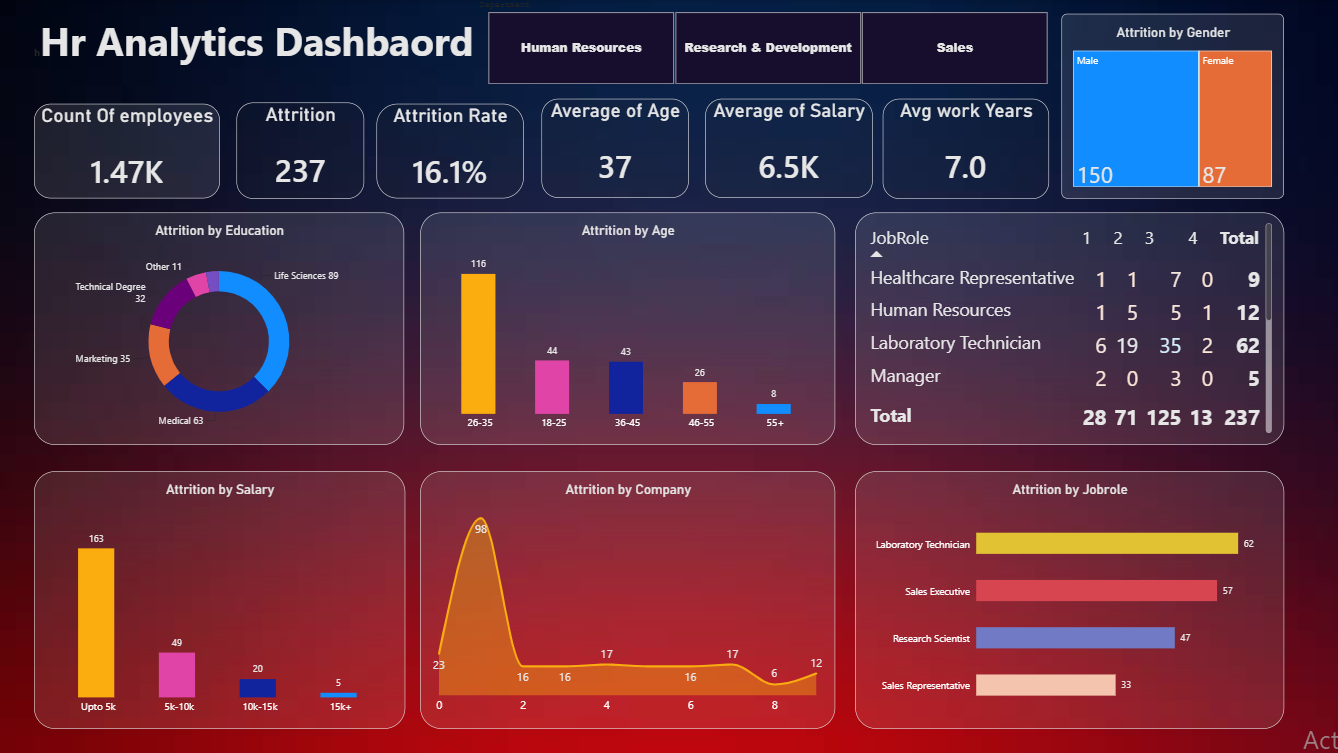

This screenshot's page, from the dashboard's own definition file:
{"tool":"powerbi","page":{"name":"Page 1","canvas":[1920,1080],"ordinal":0},"visuals":[{"type":"cardVisual","title":"Count Of employees","fields":{"Data":["CountNonNull(HR_Analytics.EmpID)"]},"box":[50.9,148.2,265.4,134.9],"z":0},{"type":"cardVisual","title":"Attrition","fields":{"Data":["Sum(HR_Analytics.AttritionAcount)"]},"box":[339.3,146.4,182.1,137.5],"z":1000},{"type":"cardVisual","title":"Attrition Rate","fields":{"Data":["HR_Analytics.AttritionRate"]},"box":[539.7,148.2,210.1,134.9],"z":2000},{"type":"cardVisual","title":"Average of Age","fields":{"Data":["Avg(HR_Analytics.Age)"]},"box":[774.2,141.6,210.1,141.6],"z":3000},{"type":"cardVisual","title":"Average of Salary","fields":{"Data":["Avg(HR_Analytics.MonthlyIncome)"]},"box":[1008.7,141.6,238.9,141.6],"z":4000},{"type":"cardVisual","title":"Avg work Years","fields":{"Data":["Avg(HR_Analytics.YearsAtCompany)"]},"box":[1262.5,141.1,237.5,142.9],"z":5000},{"type":"donutChart","title":"Attrition by Education","fields":{"Category":["HR_Analytics.EducationField"],"Y":["Sum(HR_Analytics.AttritionAcount)"]},"box":[50,303.6,528.6,332.1],"z":6000},{"type":"clusteredColumnChart","title":"Attrition by Age","fields":{"Category":["HR_Analytics.AgeGroup"],"Y":["Sum(HR_Analytics.AttritionAcount)"]},"box":[601.8,303.6,592.9,332.1],"z":7000},{"type":"pivotTable","fields":{"Columns":["HR_Analytics.JobInvolvement"],"Rows":["HR_Analytics.JobRole"],"Values":["Sum(HR_Analytics.AttritionAcount)"]},"box":[1223.2,303.6,612.5,332.1],"z":8000},{"type":"clusteredColumnChart","title":"Attrition by Salary","fields":{"Category":["HR_Analytics.SalarySlab"],"Y":["Sum(HR_Analytics.AttritionAcount)"]},"box":[50,673.2,530.4,367.9],"z":9000},{"type":"areaChart","title":"Attrition by Company","fields":{"Category":["HR_Analytics.NumCompaniesWorked"],"Y":["Sum(HR_Analytics.AttritionAcount)"]},"box":[601.8,673.2,592.9,367.9],"z":10000},{"type":"clusteredBarChart","title":"Attrition by Jobrole","fields":{"Category":["HR_Analytics.JobRole"],"Y":["Sum(HR_Analytics.AttritionAcount)"]},"box":[1223.2,673.2,612.5,367.9],"z":11000},{"type":"treemap","title":"Attrition by Gender","fields":{"Group":["HR_Analytics.Gender"],"Values":["Sum(HR_Analytics.AttritionAcount)"]},"box":[1517.9,19.6,317.9,264.3],"z":12000},{"type":"slicer","fields":{"Values":["HR_Analytics.Department"]},"box":[679.1,0,838.3,121.7],"z":13000},{"type":"textbox","box":[50.9,19.9,665.8,81.8],"z":14000}]}

Visuals, with their boxes in screenshot pixels (x1, y1, x2, y2), scaled from the page's 1920x1080 canvas onto the 1338x753 screenshot:
"Count Of employees" cardVisual: bbox(35, 103, 220, 197)
"Attrition" cardVisual: bbox(236, 102, 363, 198)
"Attrition Rate" cardVisual: bbox(376, 103, 523, 197)
"Average of Age" cardVisual: bbox(540, 99, 686, 197)
"Average of Salary" cardVisual: bbox(703, 99, 869, 197)
"Avg work Years" cardVisual: bbox(880, 98, 1045, 198)
"Attrition by Education" donutChart: bbox(35, 212, 403, 443)
"Attrition by Age" clusteredColumnChart: bbox(419, 212, 833, 443)
pivotTable - HR_Analytics.JobInvolvement x HR_Analytics.JobRole: bbox(852, 212, 1279, 443)
"Attrition by Salary" clusteredColumnChart: bbox(35, 469, 404, 726)
"Attrition by Company" areaChart: bbox(419, 469, 833, 726)
"Attrition by Jobrole" clusteredBarChart: bbox(852, 469, 1279, 726)
"Attrition by Gender" treemap: bbox(1058, 14, 1279, 198)
slicer - HR_Analytics.Department: bbox(473, 0, 1057, 85)
textbox: bbox(35, 14, 499, 71)
